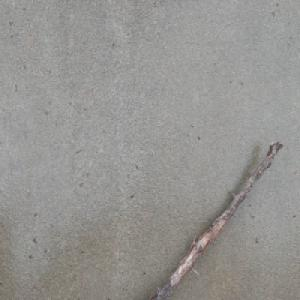Wood: (147, 139, 284, 300)
